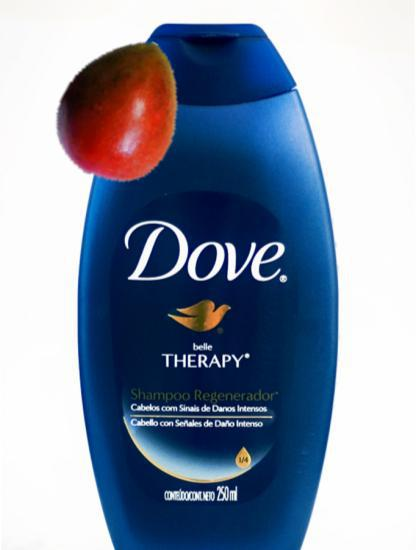Mango: (48, 35, 197, 184)
